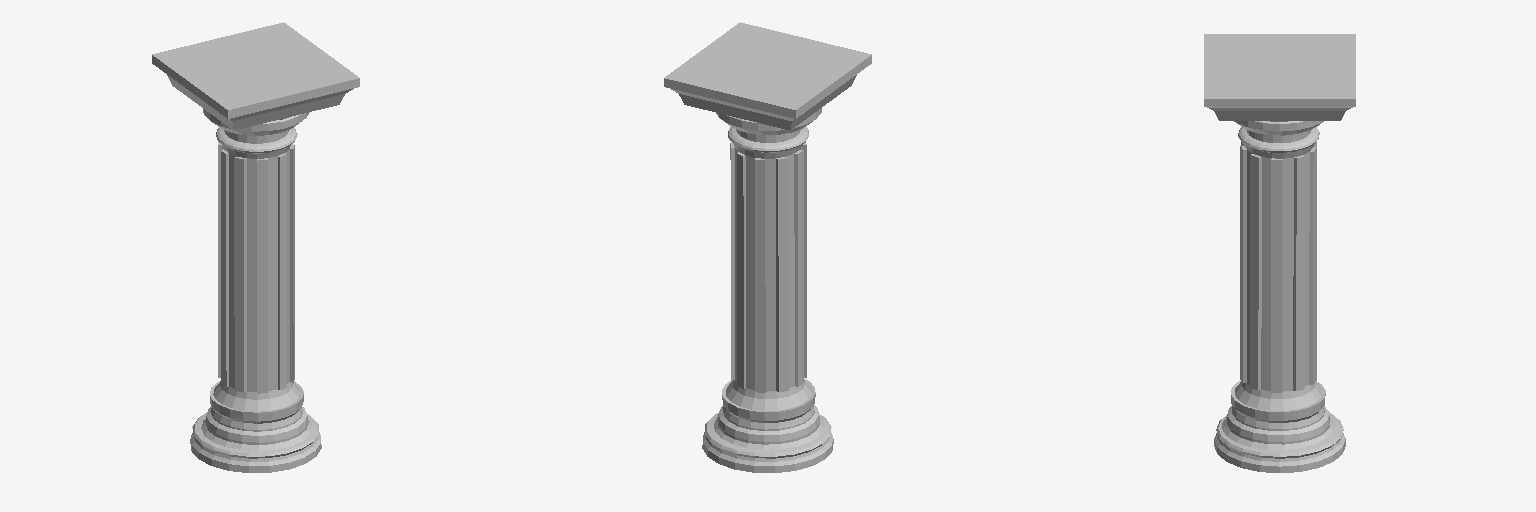
File: columna.obj
The picture shows the model from 3 angles: view 1: azimuth 30°, elevation 25°; view 2: azimuth 150°, elevation 25°; view 3: azimuth 270°, elevation 25°; orthographic projection.
Parts seen in each view (by area): view 1: pPlane2_lambert5_0; view 2: pPlane2_lambert5_0; view 3: pPlane2_lambert5_0.
Boxes of the visible parts, box(x1,y1,x2,y2) form: pPlane2_lambert5_0: box(152, 22, 359, 472); pPlane2_lambert5_0: box(664, 22, 871, 472); pPlane2_lambert5_0: box(1204, 34, 1355, 472).
Size of the model in its own units: 4.65 by 12.75 by 4.65.